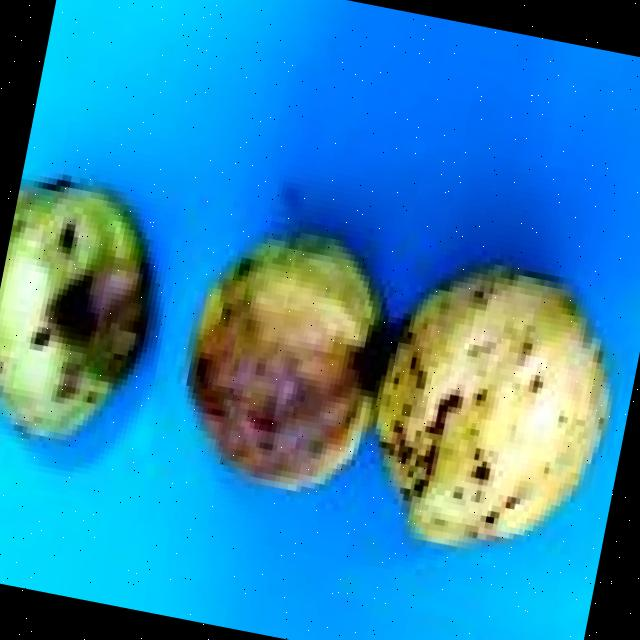Bad_Guava 0 day: (189, 238, 603, 539), (0, 187, 141, 432)
